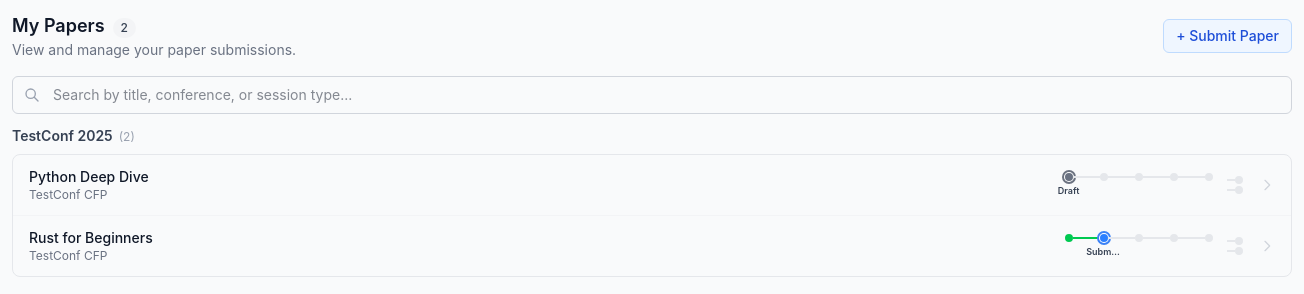
Test: DashboardPage › search functionality › clears search when the × clear button is clicked
In the field with placeholder "Search by title, conference, or session type...": point(652, 95) [12,76,1292,114], type "Python"
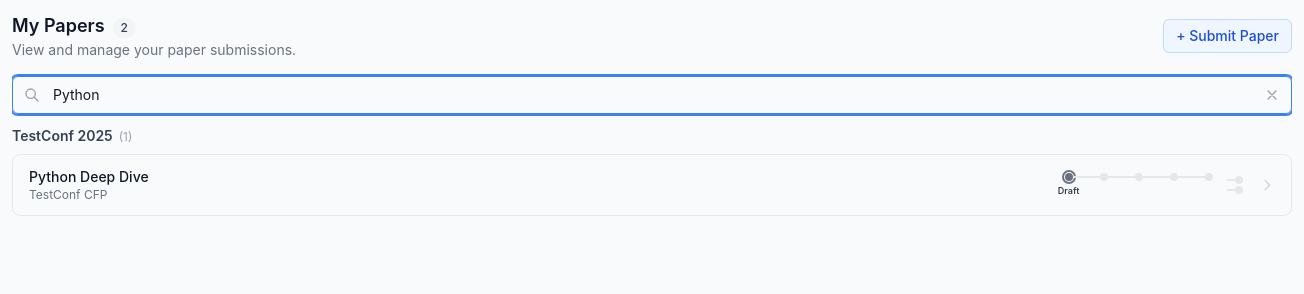
expect the link "Rust for Beginners" is gone: met
expect the button is shown: met
Click the button: point(1272, 95) [1264,87,1280,103]
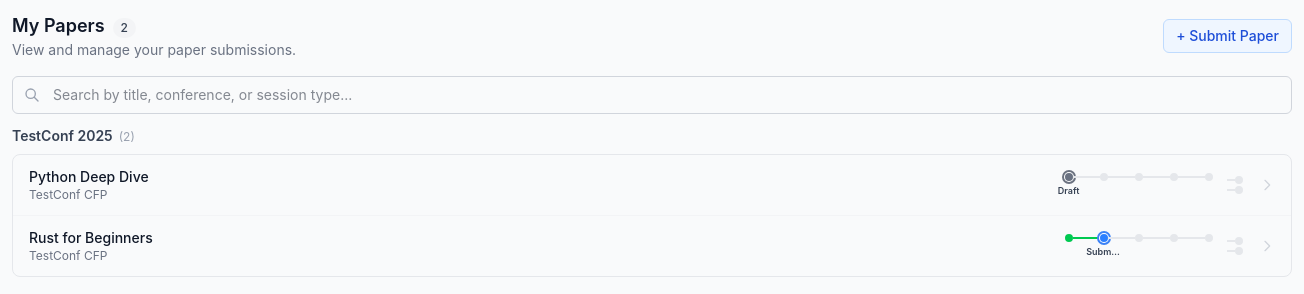
expect the text "Python Deep Dive" is shown: met, box [29,167,149,187]
expect the text "Rust for Beginners" is shown: met, box [29,228,153,248]
